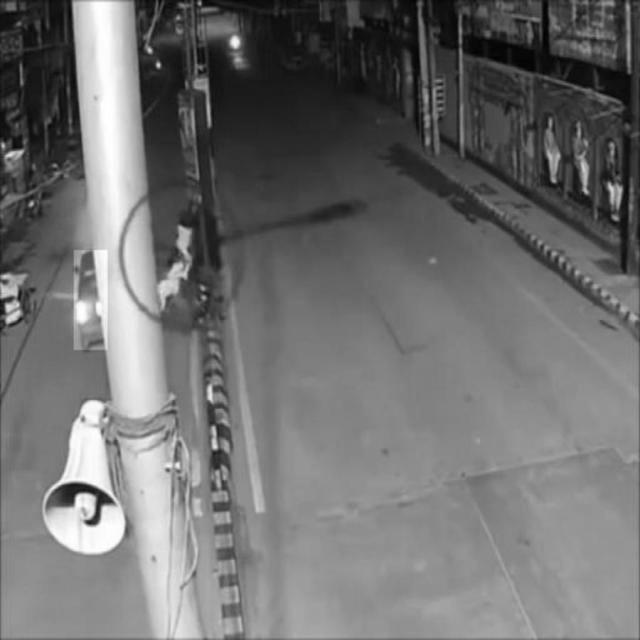vehicle: (74, 250, 108, 350)
